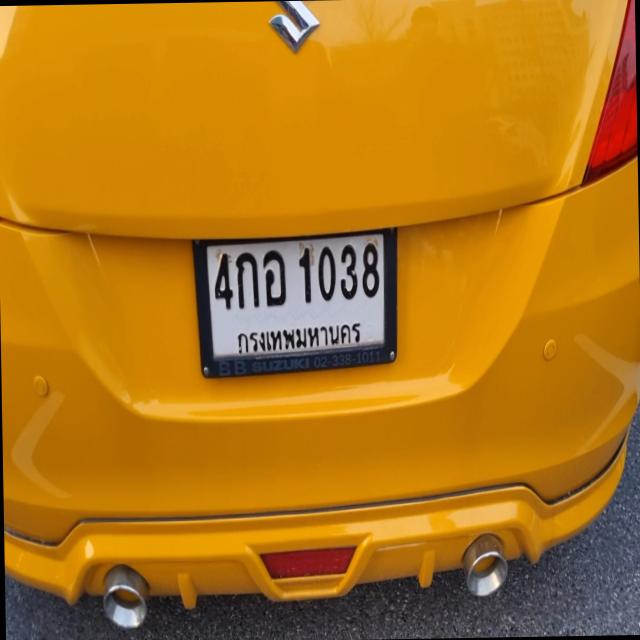license_plate: (189, 216, 402, 381)
